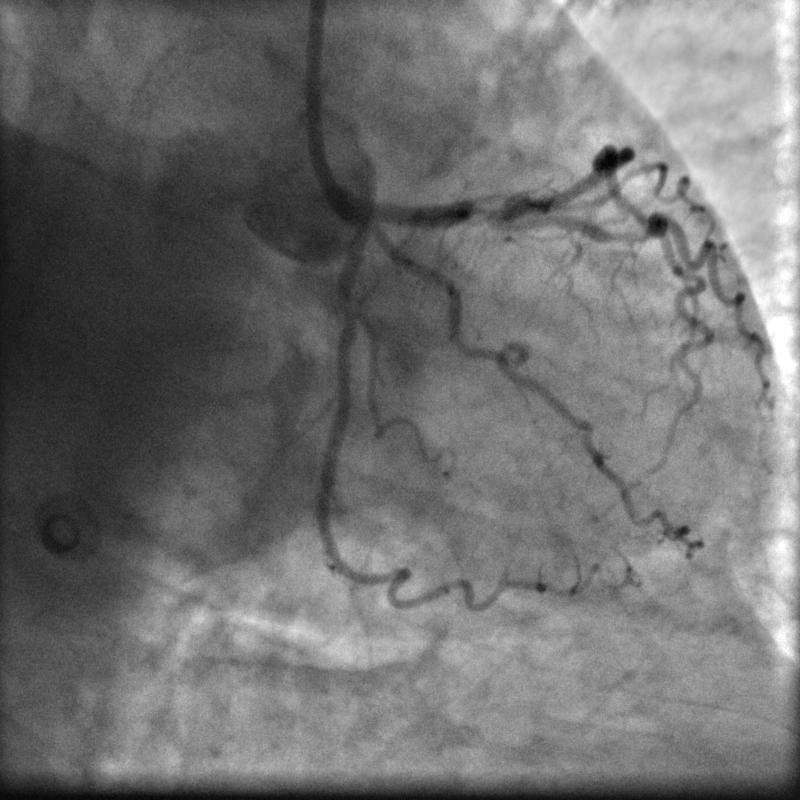Stenosis: (463, 195, 509, 230)
